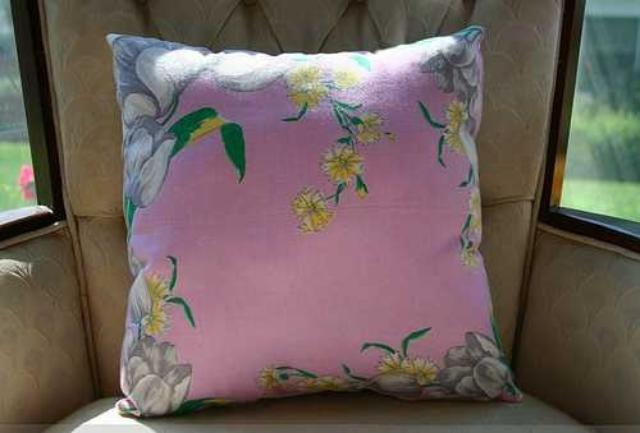pillow: (104, 25, 522, 417)
